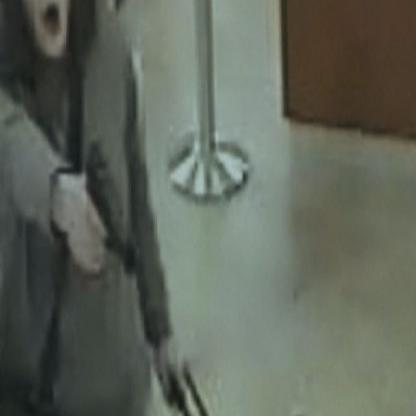gun: (76, 139, 140, 284)
